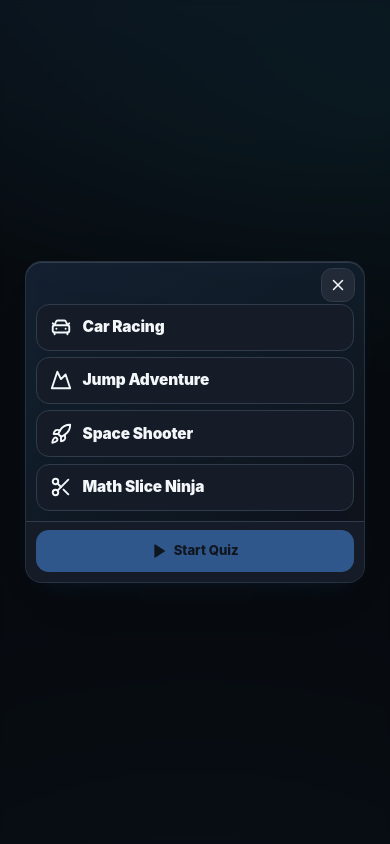
Test: MCQ with Game selector › restores Start Quiz after an asynchronous start failure
The width and height of the screenshot is (390, 844).
Click the button "Jump Adventure" at (195, 380), box [36,357,354,404]
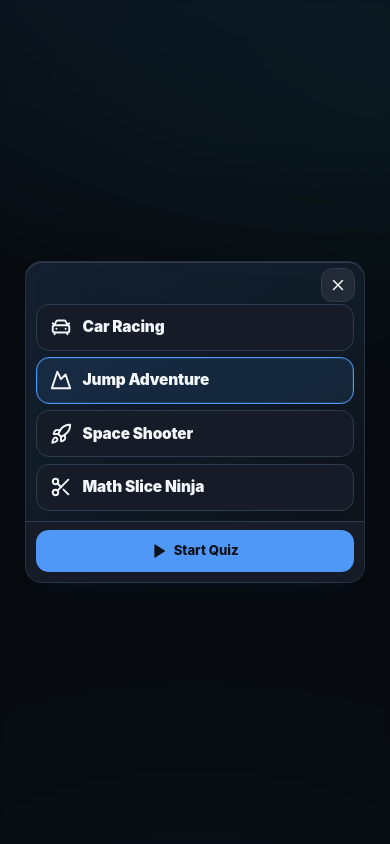
Click the button with test id "start-selected-game" at (195, 551), box [36,530,354,572]
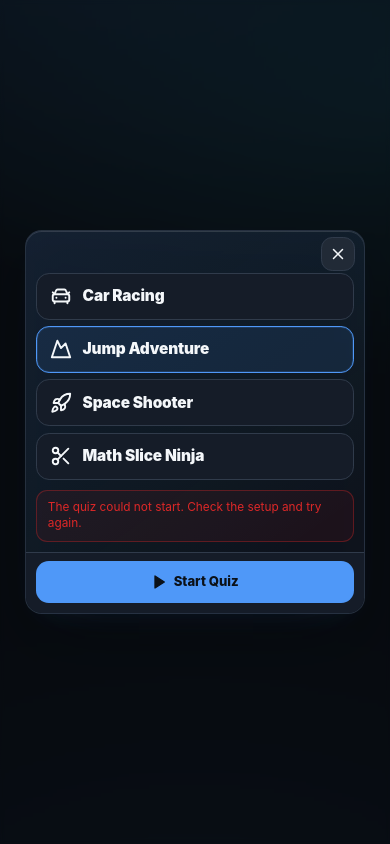
Expected: the button with test id "start-selected-game" is enabled, [36,561,354,603]
Expected: the message shows "could not start", [48,500,321,530]
